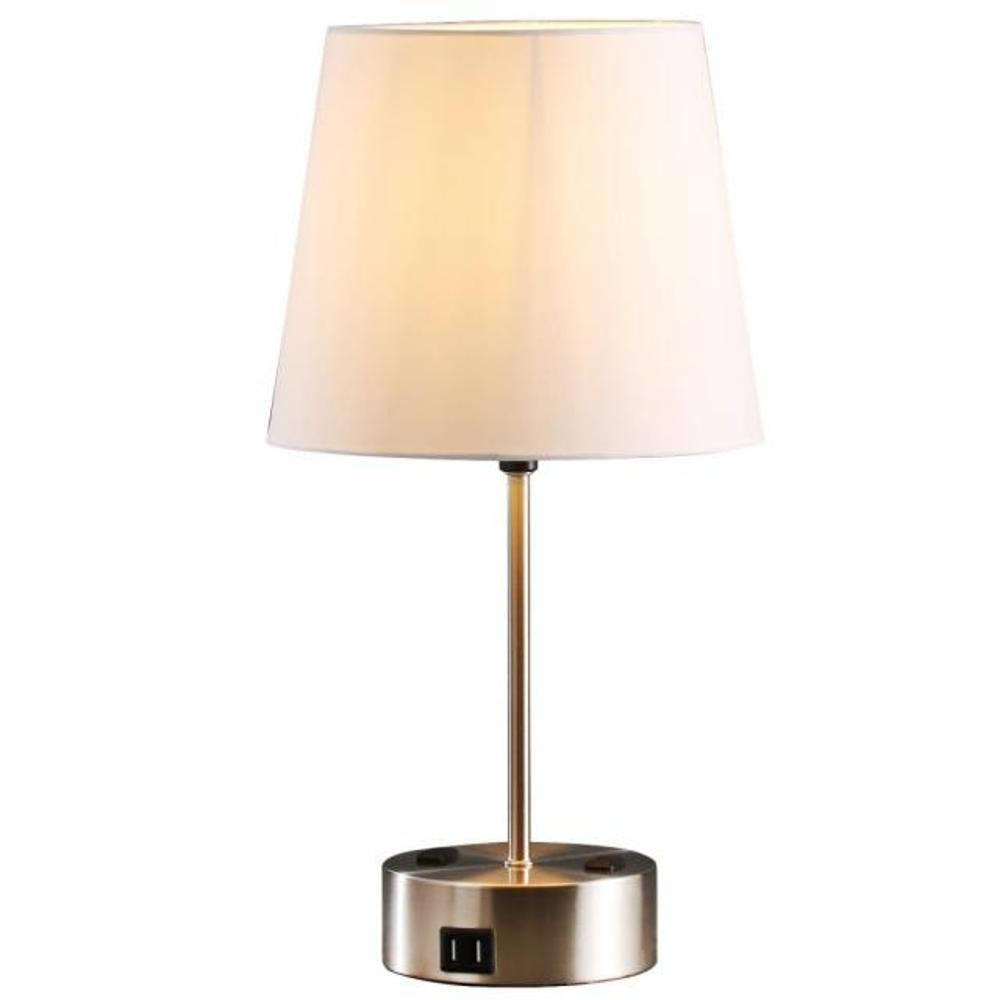shelf: (249, 10, 807, 989)
